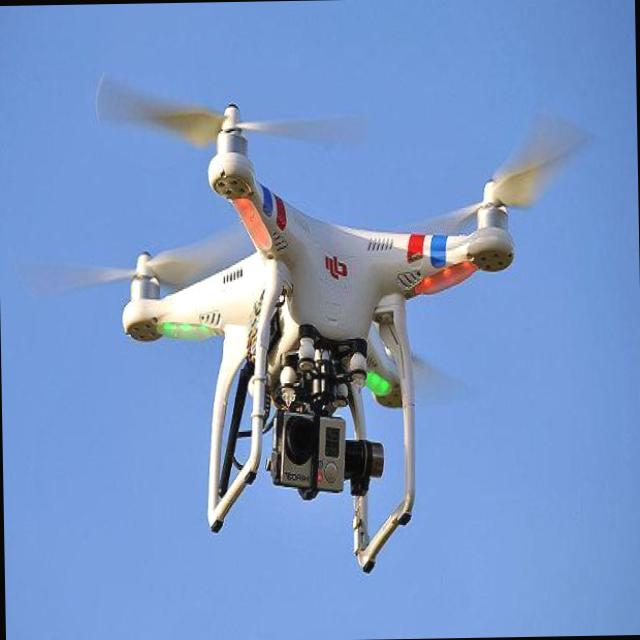drone: (118, 98, 522, 580)
